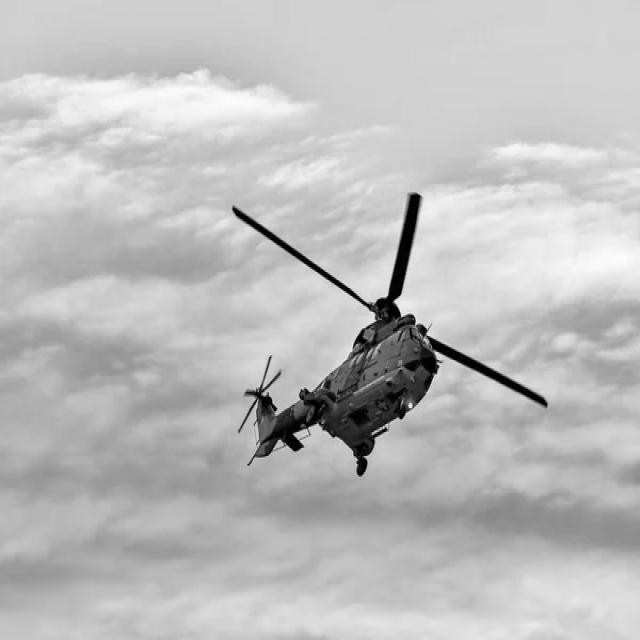Helicopter: (233, 194, 549, 476)
